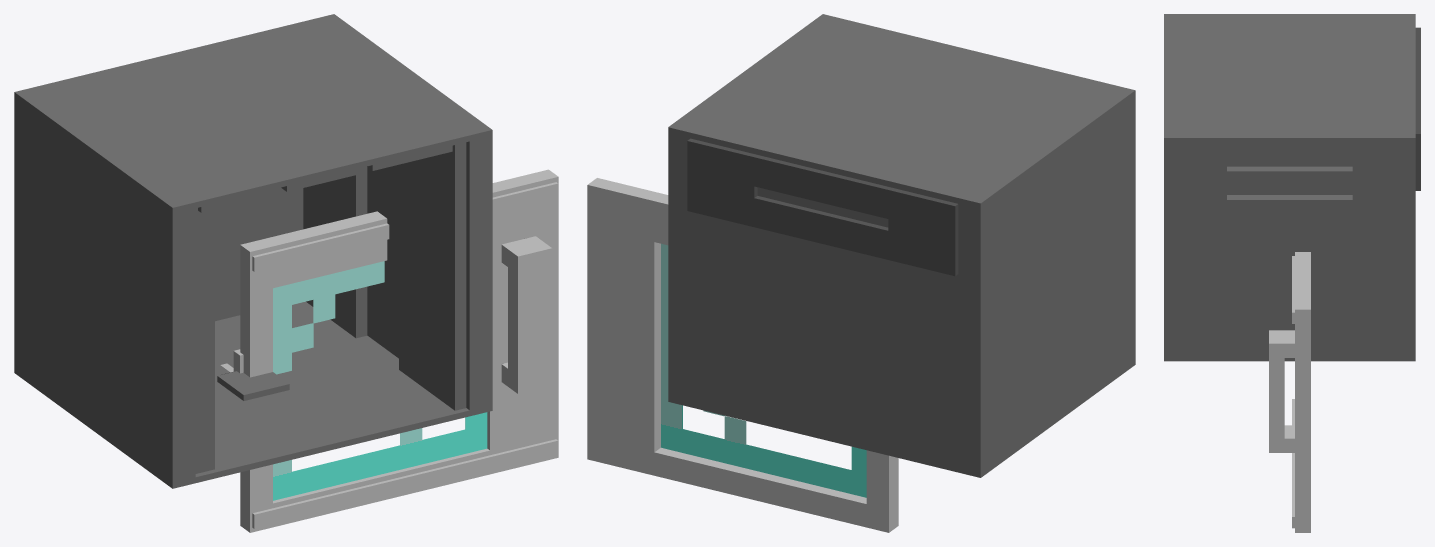
Rendered from microwave-oven-simple-8d45c6.glb.
3 views of the same model, side by side, from view 1: azimuth 30°, elevation 25°; view 2: azimuth 150°, elevation 25°; view 3: azimuth 270°, elevation 25° (orthographic). The views are drawn at different scales.
Parts seen in each view (by area): view 1: PropMesh; view 2: PropMesh; view 3: PropMesh.
Part boxes in pixels (x1,y1,x2,y2): PropMesh: (14,14,558,532); PropMesh: (587,14,1135,532); PropMesh: (1164,14,1420,532).
Bounding box in the file's own units: 1.28 × 1.11 × 0.7656.
Materials: 5 (5 with a texture image).
